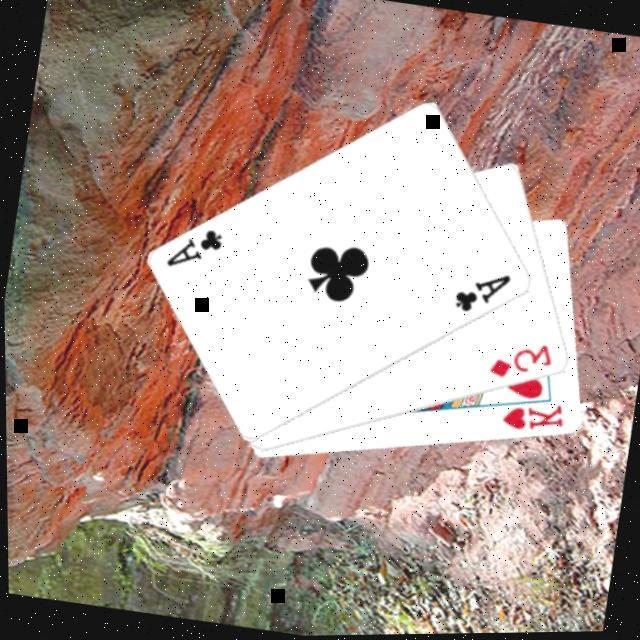3D: (481, 332, 556, 390)
AC: (446, 262, 514, 322), (160, 218, 227, 278)
KH: (493, 394, 568, 442)
